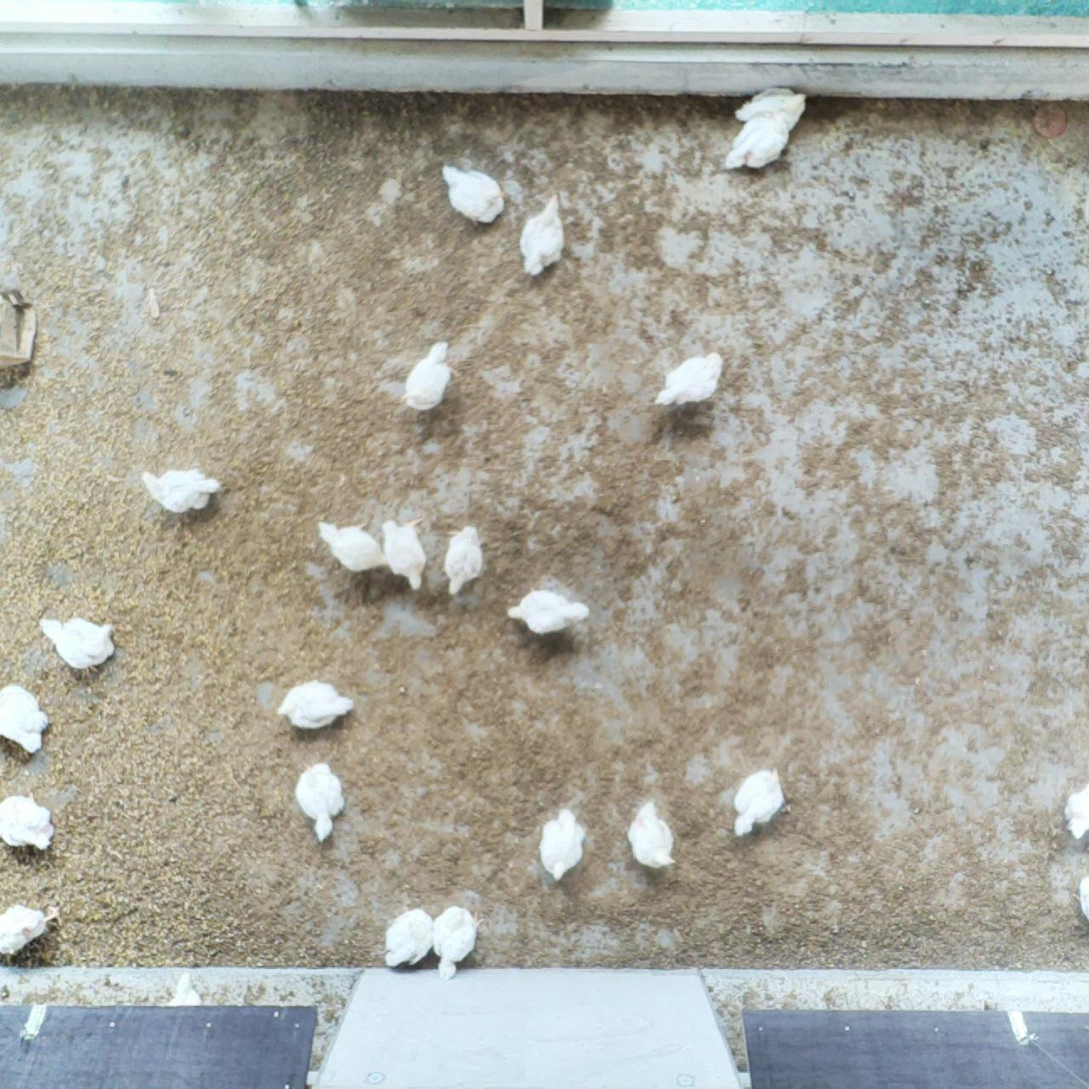chicken: (35, 612, 119, 683), (651, 349, 727, 413), (293, 759, 349, 845), (721, 108, 793, 173), (439, 160, 507, 228), (429, 904, 486, 985), (397, 339, 457, 415), (276, 677, 357, 733), (517, 191, 569, 278), (312, 517, 389, 574), (506, 588, 592, 639), (729, 766, 788, 839), (538, 805, 592, 883), (139, 465, 222, 515), (379, 516, 432, 594), (625, 798, 679, 872), (381, 905, 436, 971), (0, 682, 48, 757), (0, 790, 57, 851), (0, 899, 61, 956), (442, 522, 488, 597), (732, 84, 811, 127), (1062, 778, 1089, 843), (1069, 870, 1089, 920)
